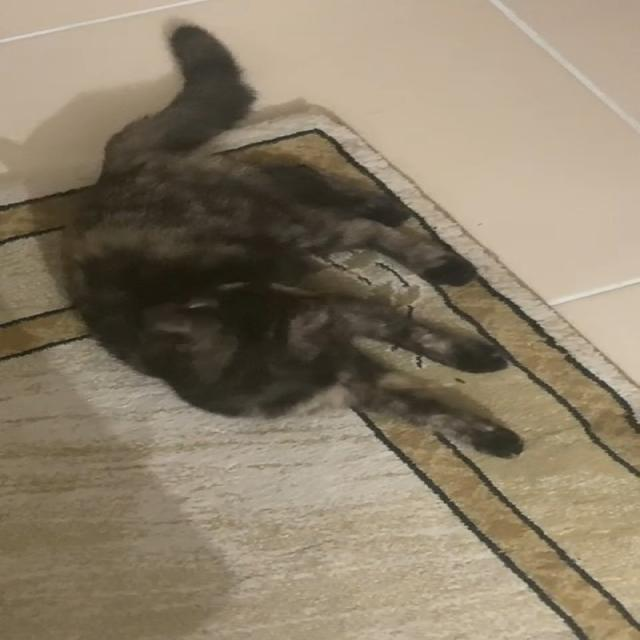authorized: (59, 17, 525, 460)
